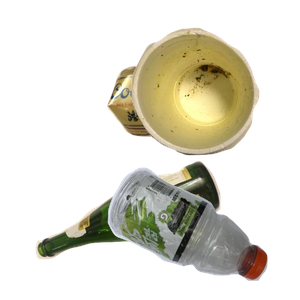glass: (33, 158, 246, 300)
metal: (105, 63, 300, 192)
plastic: (105, 165, 300, 300)
trash: (129, 25, 300, 173)
